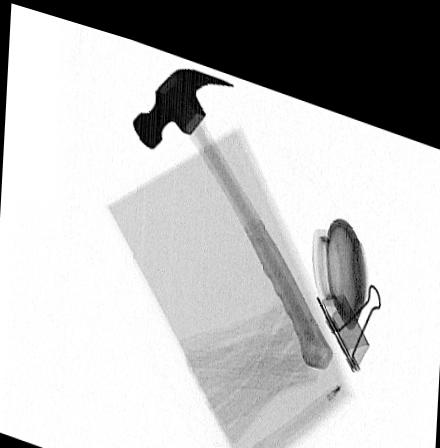Hammer: (132, 57, 334, 349)
